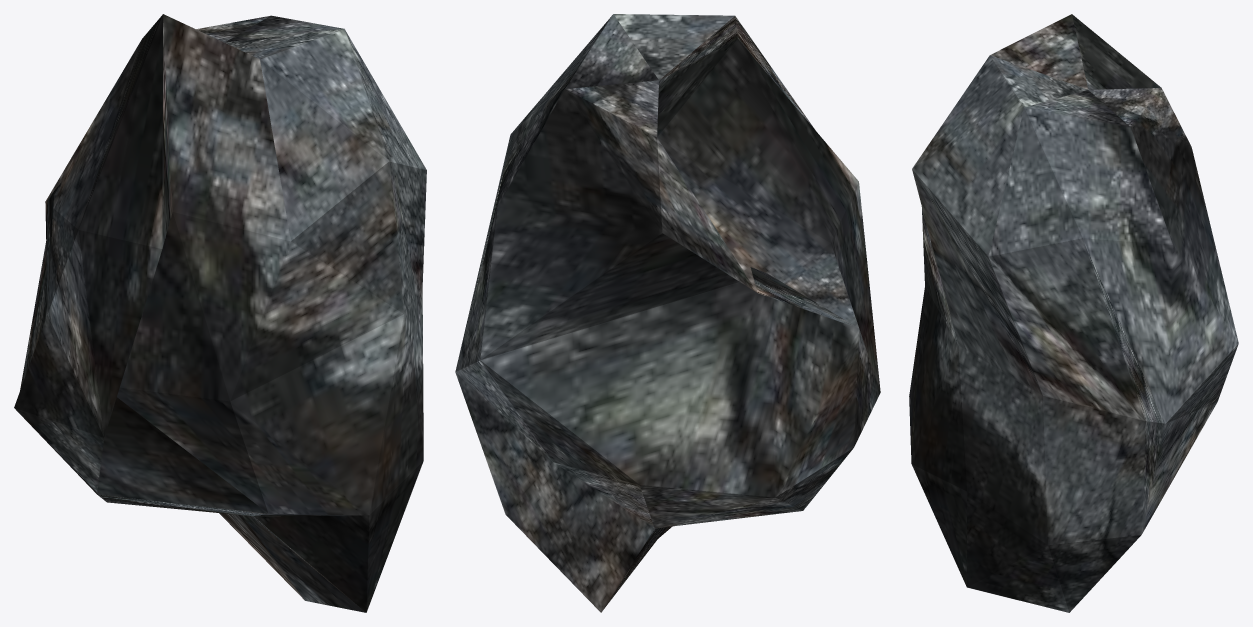
Rendered from rock.obj.
3 renders of one model, left to right at view 1: azimuth 30°, elevation 25°; view 2: azimuth 150°, elevation 25°; view 3: azimuth 270°, elevation 25°, orthographic. The views are drawn at different scales.
Visible parts, largest first — view 1: Icosphere; view 2: Icosphere; view 3: Icosphere.
Boxes of the visible parts, x1,y1,x2,y2 form: Icosphere: (14, 14, 426, 612); Icosphere: (455, 14, 880, 612); Icosphere: (909, 14, 1238, 612).
Bounding box in the file's own units: 1.98 × 3.12 × 1.73.
